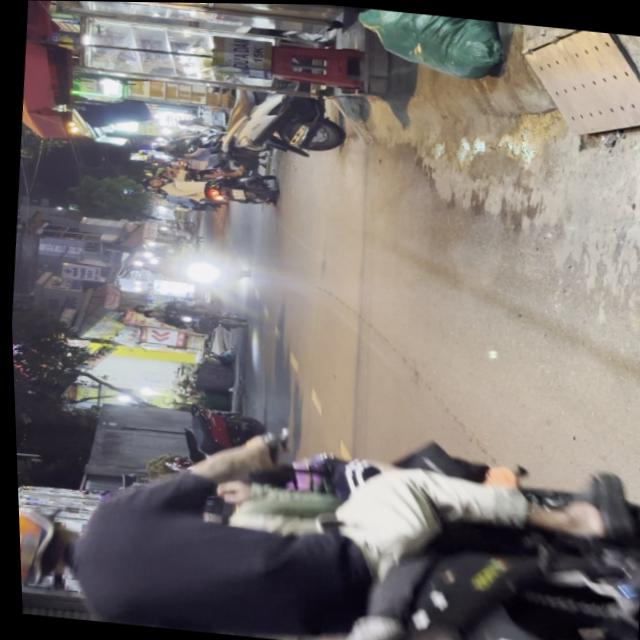helmet: (15, 509, 76, 594)
licenseplate: (12, 396, 640, 640)
nohelmet: (487, 639, 573, 640)
